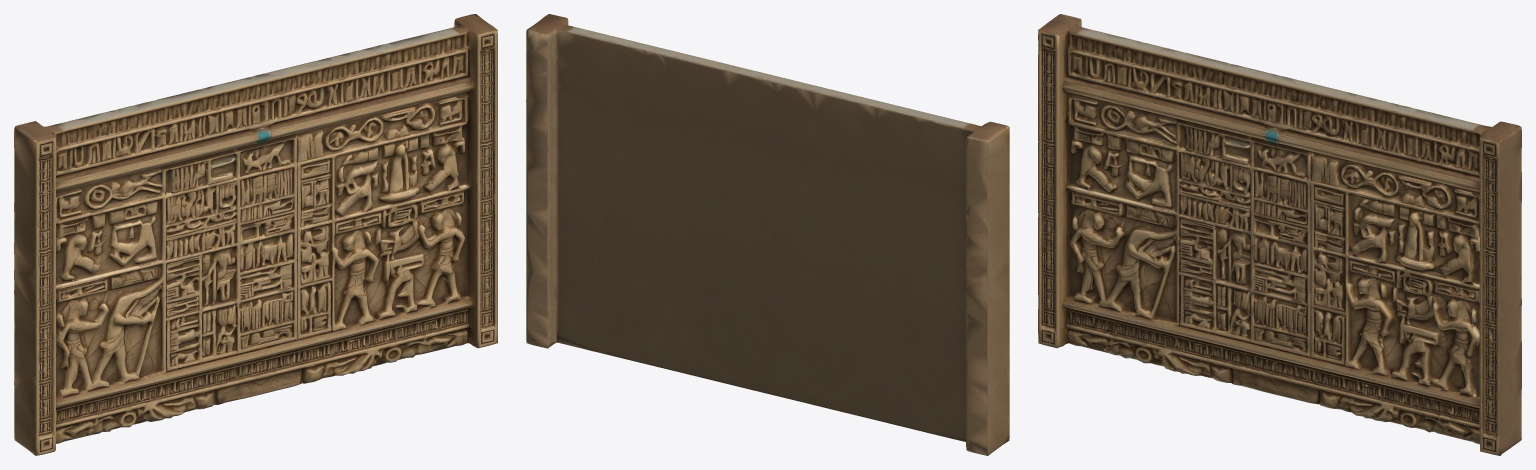
The model's file is wall_panel.glb.
3 renders of one model, left to right at view 1: azimuth 30°, elevation 25°; view 2: azimuth 150°, elevation 25°; view 3: azimuth 330°, elevation 25°, orthographic.
Bounding box in the file's own units: 1.91 × 1.24 × 0.1587.
1 material, 1 textured.
